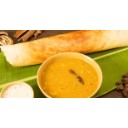dosa: (1, 33, 128, 59)
